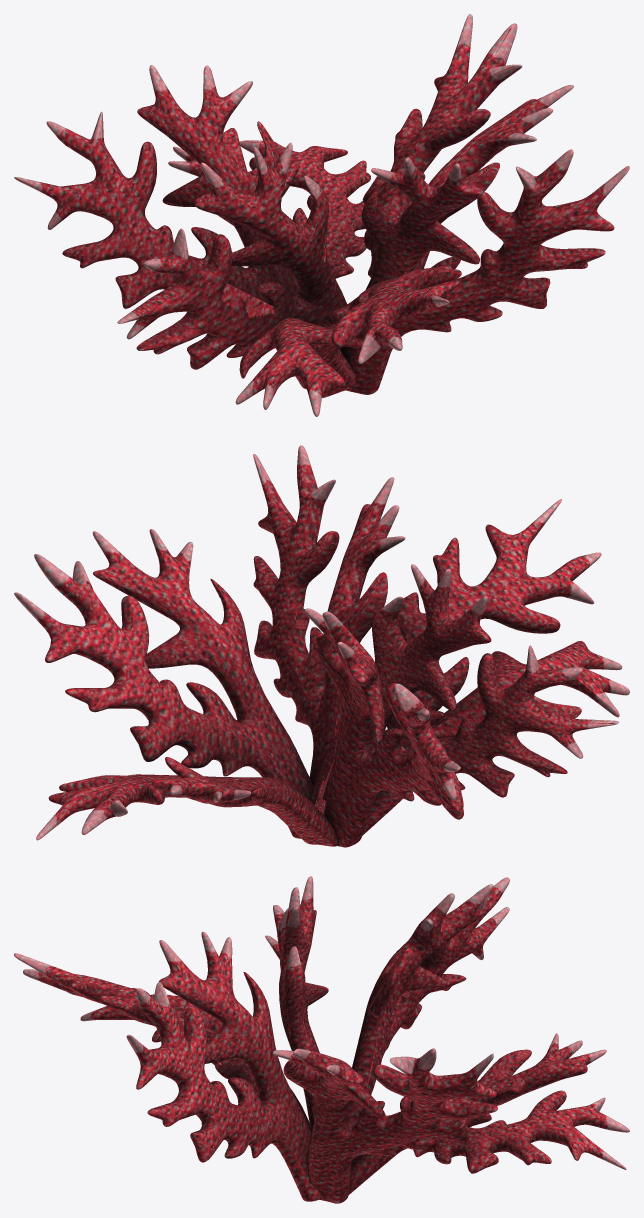
Rendered from 10010_Coral_v1_L3.obj.
The picture shows the model from 3 angles, top to bottom: view 1: azimuth 30°, elevation 25°; view 2: azimuth 150°, elevation 25°; view 3: azimuth 270°, elevation 25°; orthographic projection. The views are drawn at different scales.
Visible parts, largest first — view 1: 10010_Coral_v1; view 2: 10010_Coral_v1; view 3: 10010_Coral_v1.
Part boxes in pixels (<box>): 10010_Coral_v1: <box>14,14,629,416</box>; 10010_Coral_v1: <box>14,445,629,847</box>; 10010_Coral_v1: <box>14,876,629,1203</box>.
Bounding box in the file's own units: 0.7026 × 0.4005 × 0.829.
Materials: 1 (1 with a texture image).
